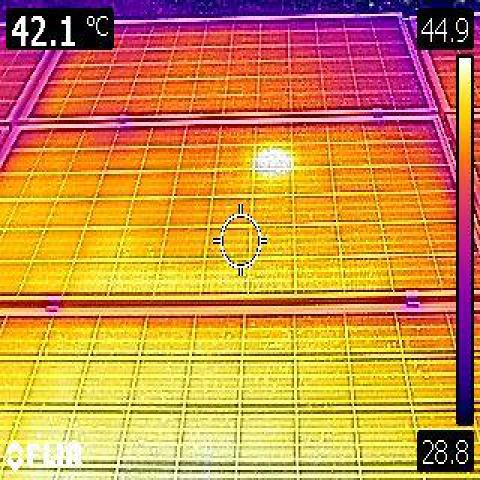fault: (253, 148, 293, 172)
